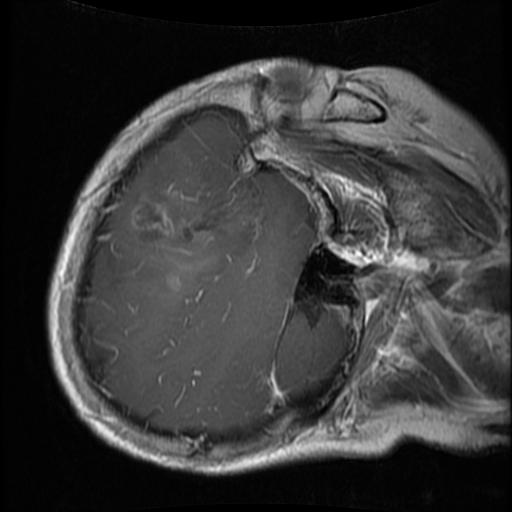glioma: (124, 185, 258, 303)
